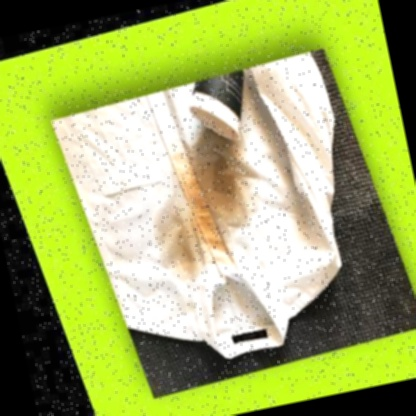coffee: (194, 138, 246, 213), (159, 207, 212, 258)
